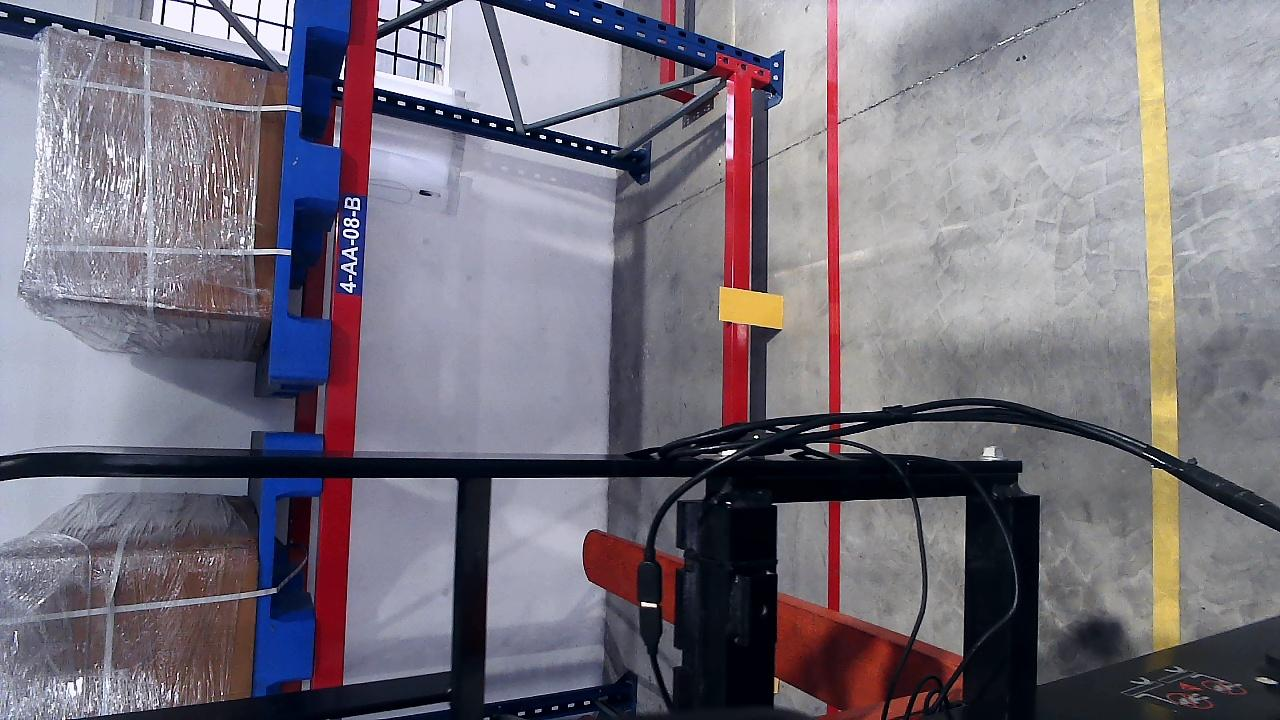h_rack: (322, 0, 380, 456), (728, 72, 757, 424), (310, 477, 356, 688)
orange_strip: (719, 285, 784, 328)
red_line: (822, 74, 844, 411)
small_pallet: (274, 1, 348, 374)
yellow_line: (1134, 1, 1180, 455), (1153, 470, 1180, 650)
